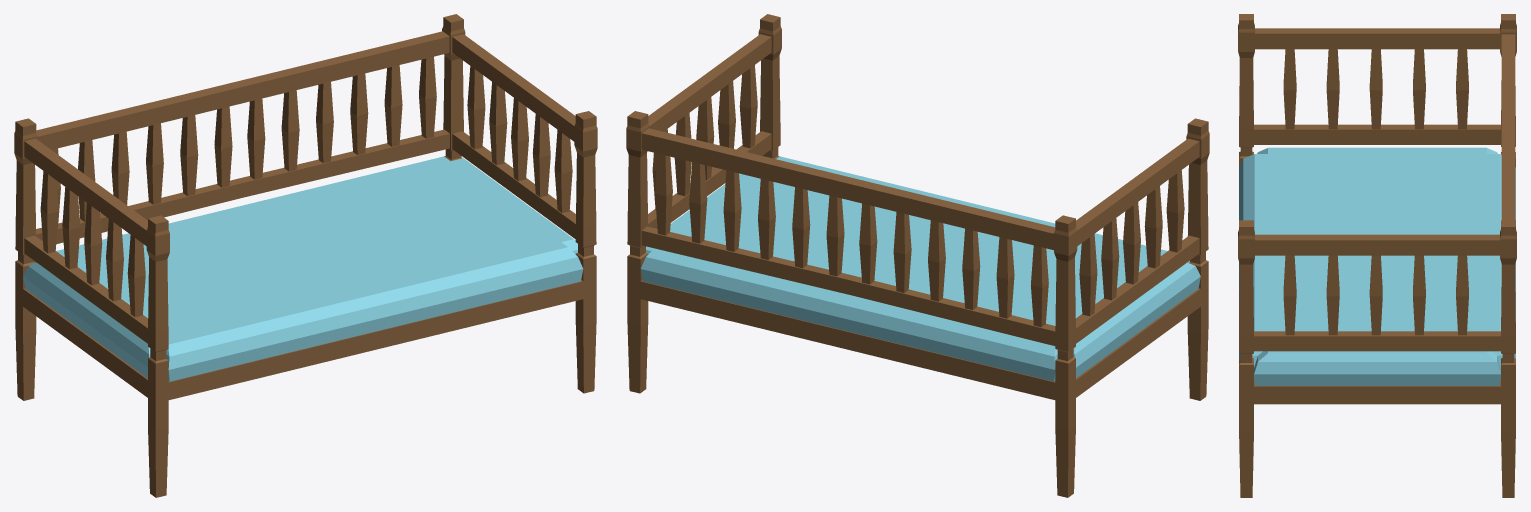
File: prop_sohva.fbx
The picture shows the model from 3 angles, left to right: view 1: azimuth 30°, elevation 25°; view 2: azimuth 150°, elevation 25°; view 3: azimuth 270°, elevation 25°; orthographic projection.
Visible parts, largest first — view 1: Cube.005; view 2: Cube.005; view 3: Cube.005.
Part boxes in pixels (<box>): Cube.005: <box>14,14,597,497</box>; Cube.005: <box>626,14,1209,497</box>; Cube.005: <box>1238,14,1516,497</box>.
Bounding box in the file's own units: 881 × 523 × 486.
